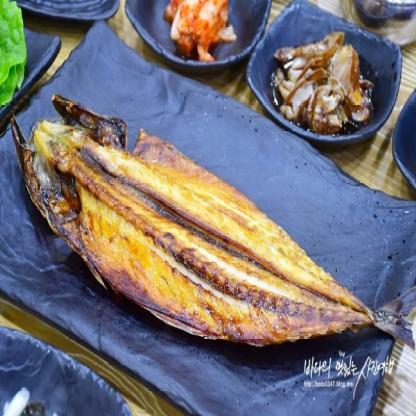Peixe: (6, 93, 416, 369)
